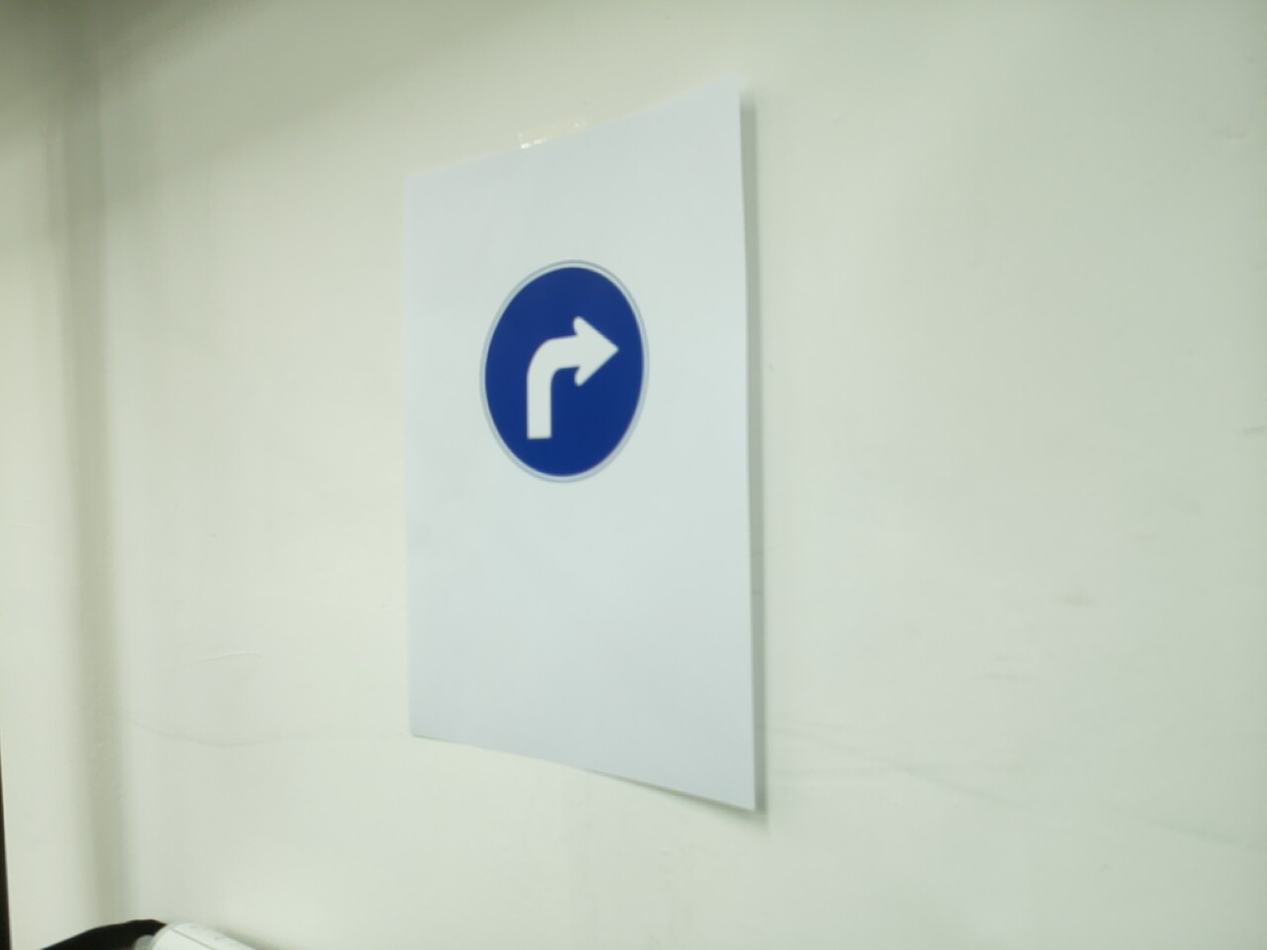right_turn: (478, 259, 651, 485)
